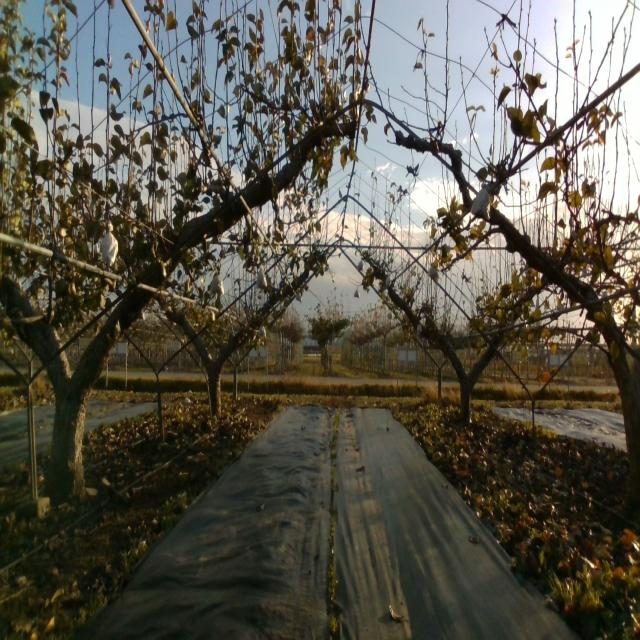pearbags: (99, 220, 119, 270), (471, 184, 492, 223), (209, 272, 225, 293), (255, 266, 267, 289)
